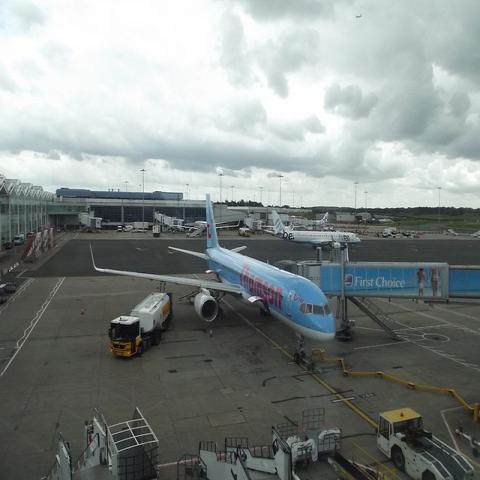car: (15, 234, 24, 246), (137, 227, 147, 233), (5, 242, 13, 249), (28, 232, 34, 239)
truck: (374, 406, 474, 479), (109, 292, 172, 357), (239, 228, 250, 236)
